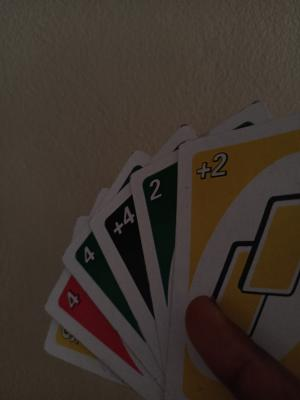-2: (187, 150, 264, 184)
num_2: (146, 173, 180, 230)
num_4: (80, 243, 114, 286), (62, 285, 94, 324)
yellow: (209, 194, 300, 325)
